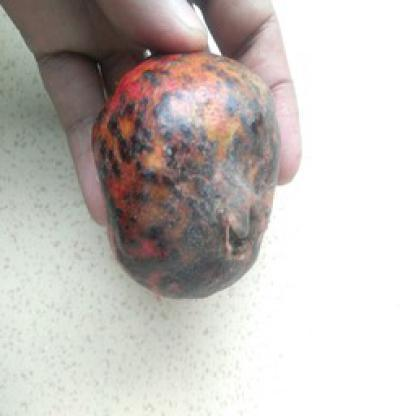pomegranate_rotten: (87, 49, 282, 298)
